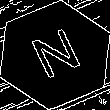N_SE: (24, 24, 86, 86)
